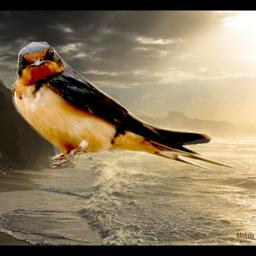Swallow: (9, 41, 238, 181)
